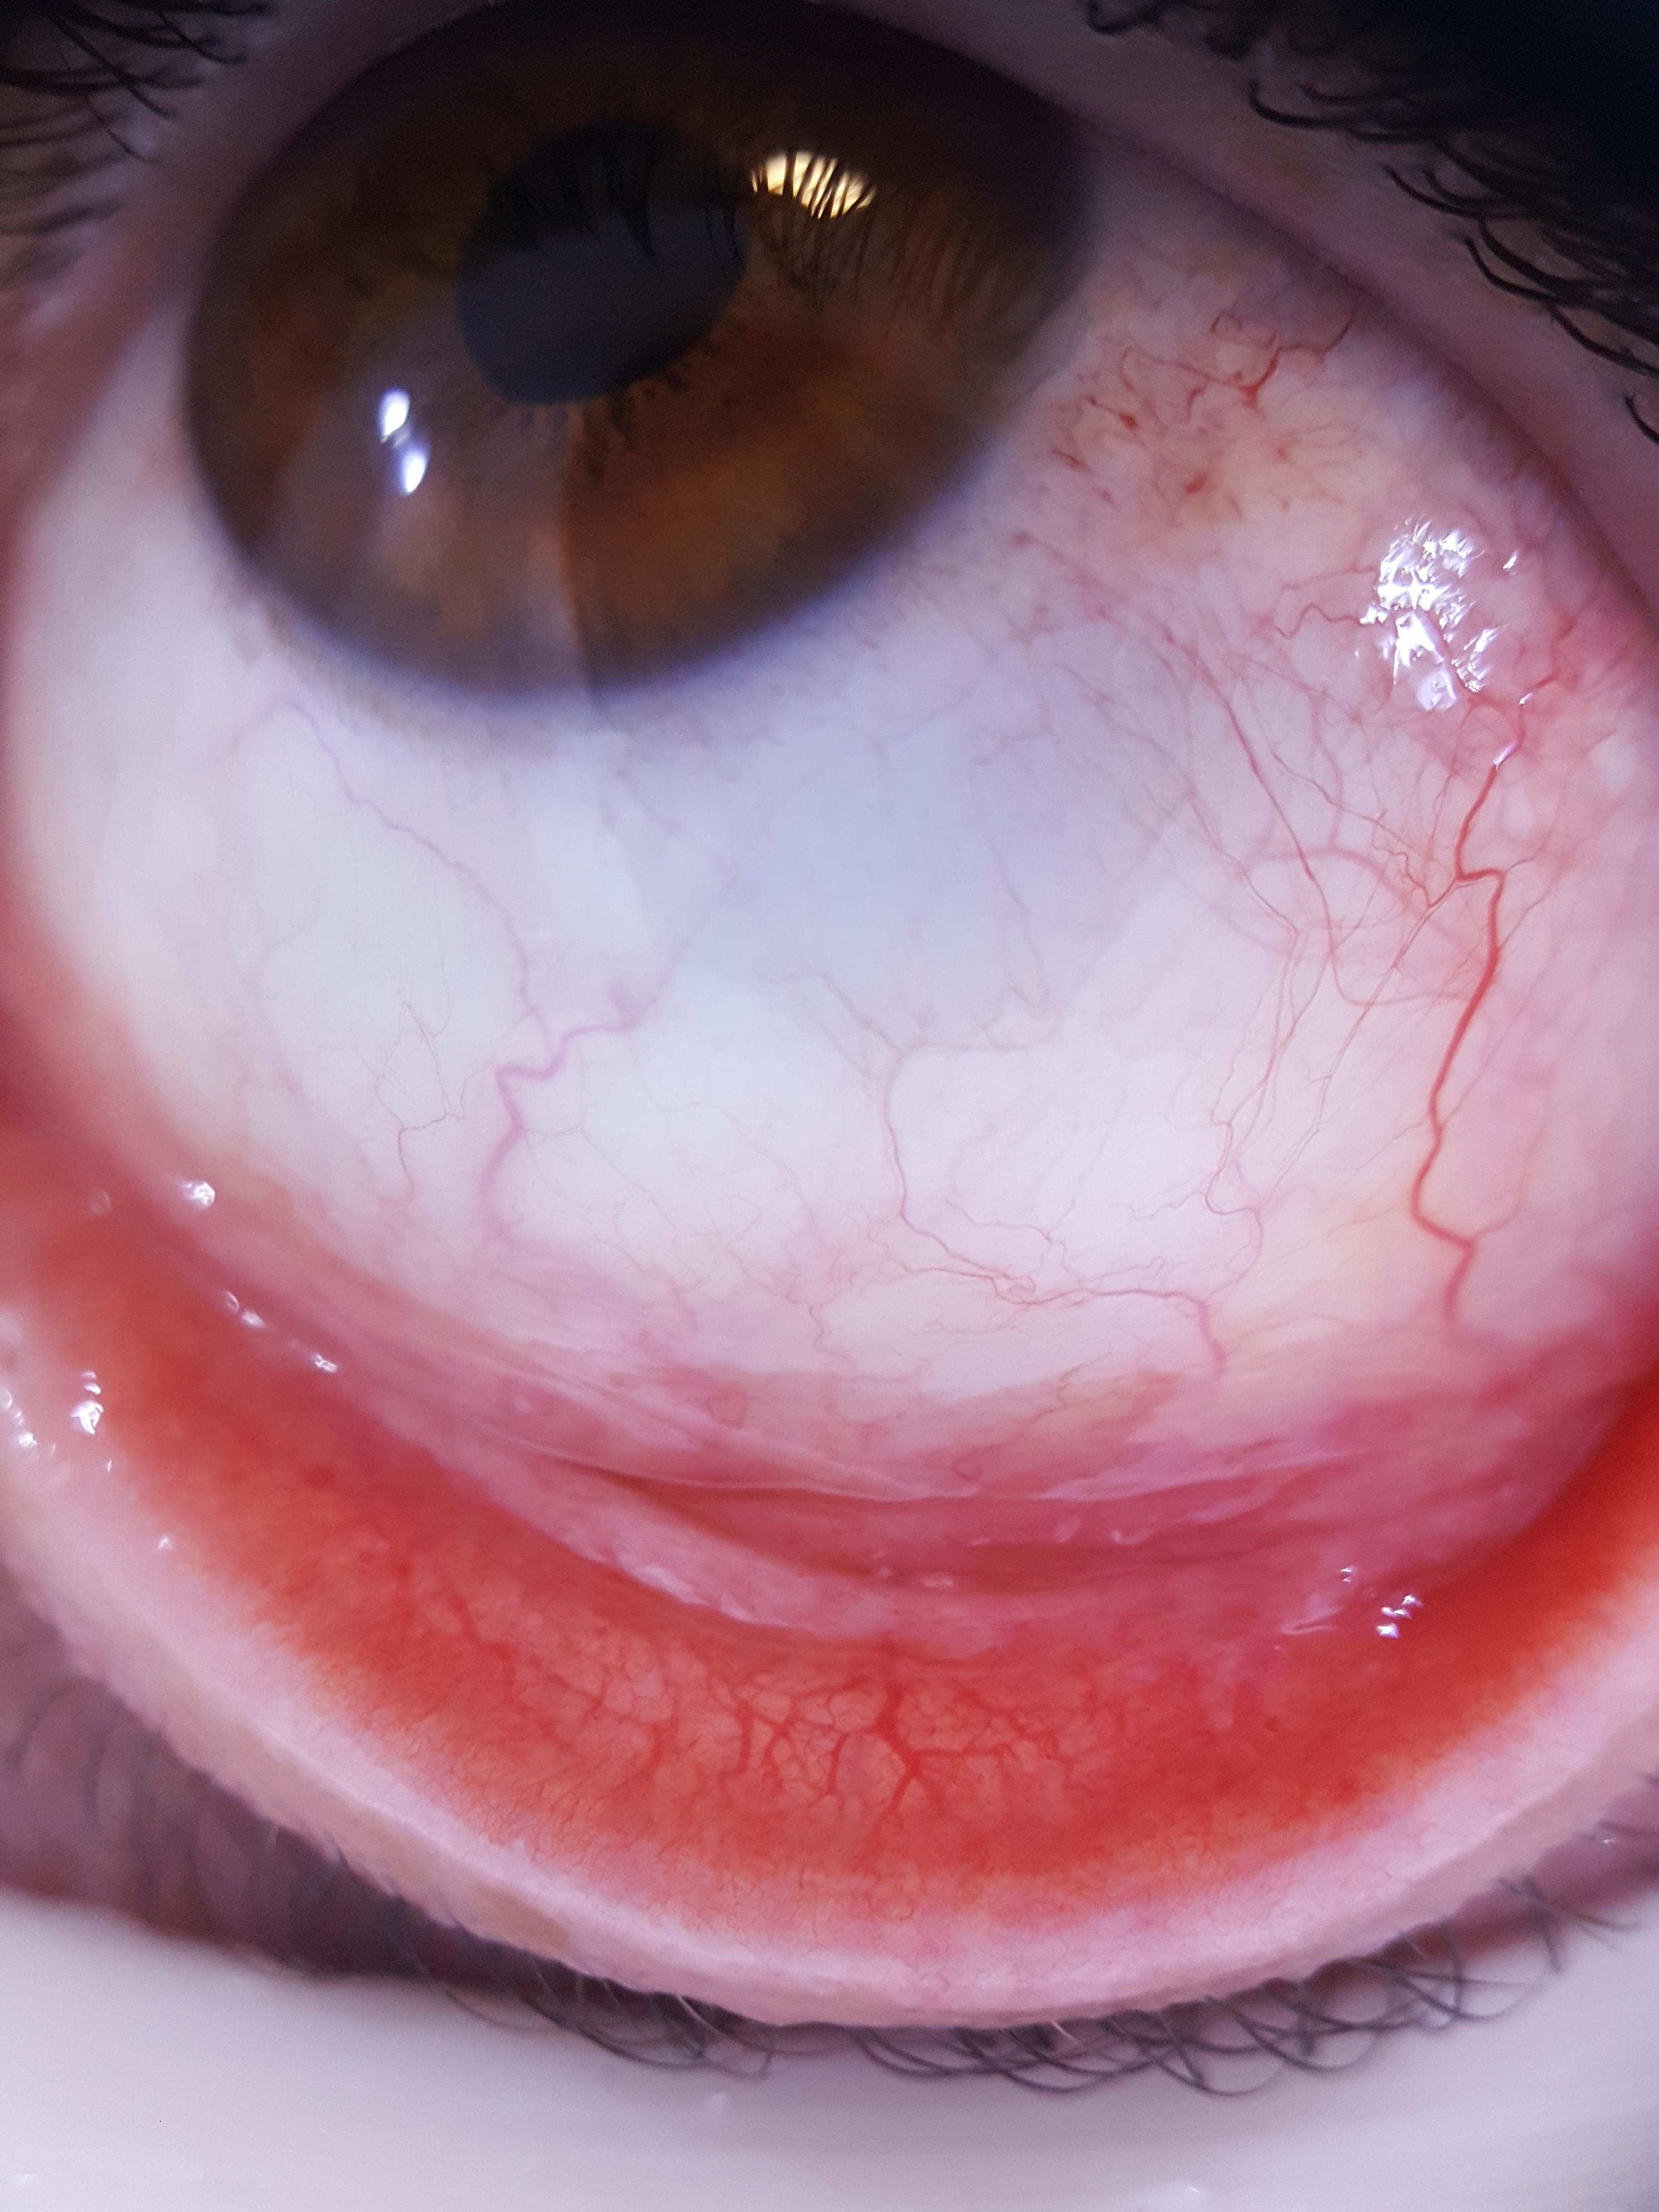forniceal: (3, 885, 1640, 1646)
forniceal_palpebral: (3, 880, 1657, 1925)
palpebral: (3, 1019, 1657, 1912)
